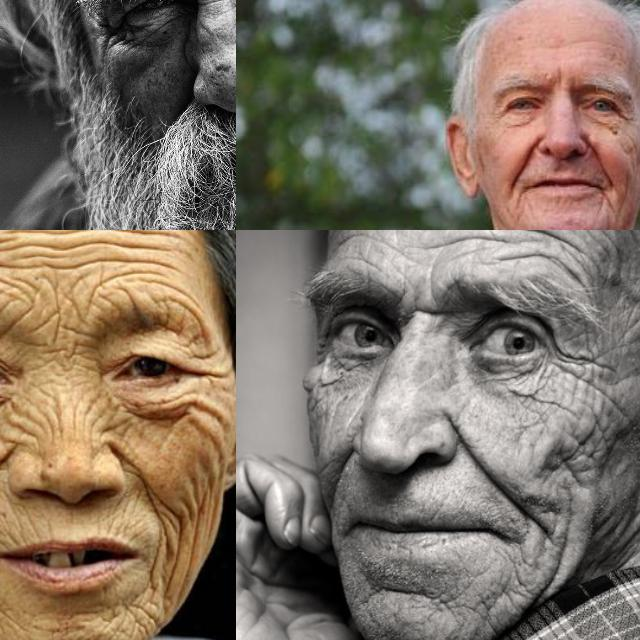bunny_line: (8, 403, 52, 449), (83, 398, 123, 442)
chin: (373, 582, 447, 608), (120, 606, 154, 638), (39, 620, 86, 640), (470, 594, 498, 624)
crows_feet: (553, 347, 593, 381), (92, 12, 128, 46), (203, 352, 231, 390), (312, 337, 326, 365), (616, 110, 636, 128), (489, 103, 505, 123)
forehead: (503, 230, 588, 280), (39, 230, 95, 281), (107, 230, 178, 267), (418, 230, 494, 256), (0, 230, 27, 288)
frown_line: (40, 294, 89, 364), (396, 301, 438, 331), (554, 64, 564, 90)
gummy_smile: (444, 412, 526, 503), (126, 455, 174, 507), (330, 446, 356, 500), (511, 134, 535, 186), (587, 139, 609, 187)
masseter: (562, 417, 616, 485), (192, 472, 218, 538), (594, 513, 636, 553), (546, 535, 568, 591)
sad_smile: (145, 544, 177, 582), (506, 543, 530, 589), (594, 189, 614, 225), (510, 191, 524, 221)
smoker_lines: (8, 511, 50, 537), (107, 515, 141, 539)
